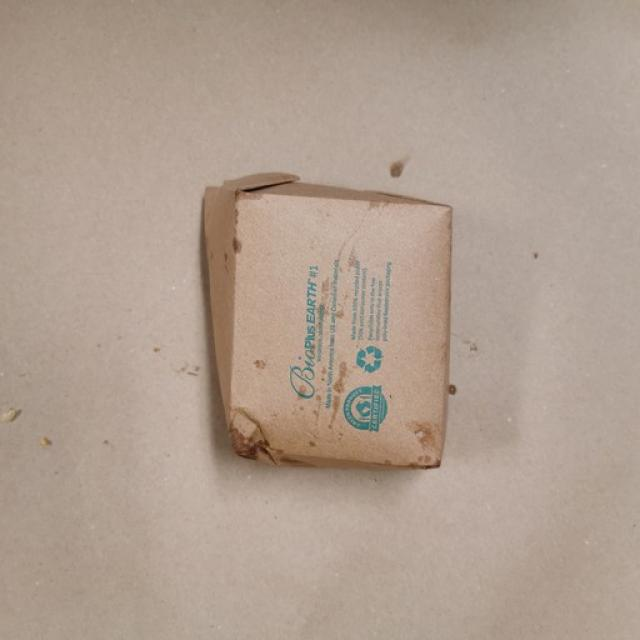PaperCardboard: (208, 174, 447, 466)
